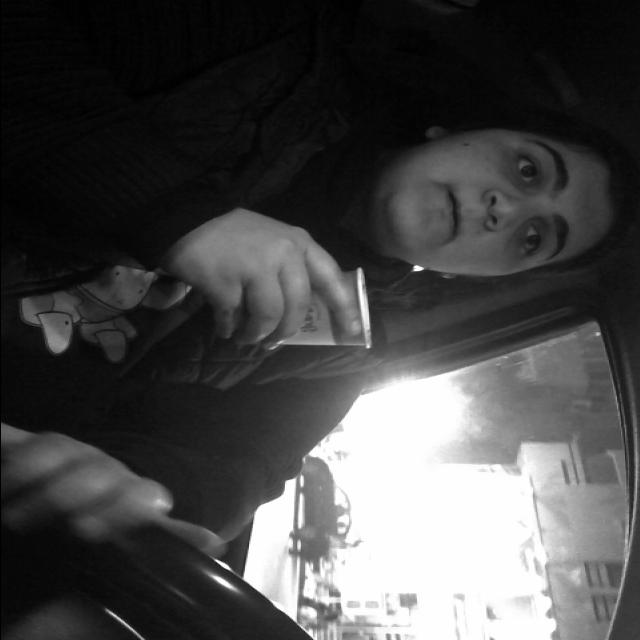drinking: (237, 270, 374, 363)
